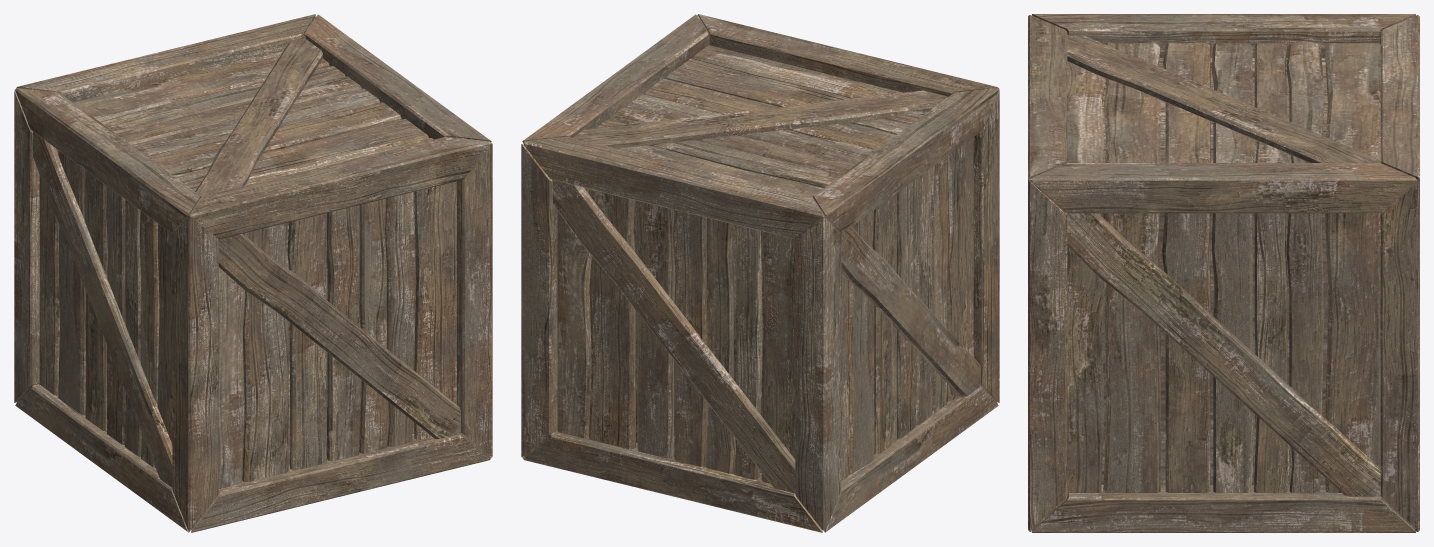
File: SM_Crate_B_01.fbx
The picture shows the model from 3 angles, left to right: view 1: azimuth 30°, elevation 25°; view 2: azimuth 150°, elevation 25°; view 3: azimuth 270°, elevation 25°; orthographic projection. The views are drawn at different scales.
Visible parts, largest first — view 1: SM_Crate_B_01_LOD0; view 2: SM_Crate_B_01_LOD0; view 3: SM_Crate_B_01_LOD0.
Boxes of the visible parts, left/top/right/bottom form: SM_Crate_B_01_LOD0: left=14, top=14, right=492, bottom=532; SM_Crate_B_01_LOD0: left=521, top=14, right=999, bottom=532; SM_Crate_B_01_LOD0: left=1028, top=14, right=1419, bottom=532.
Bounding box in the file's own units: 60.1 × 60.1 × 60.1.
Materials: 1 (1 with a texture image).
